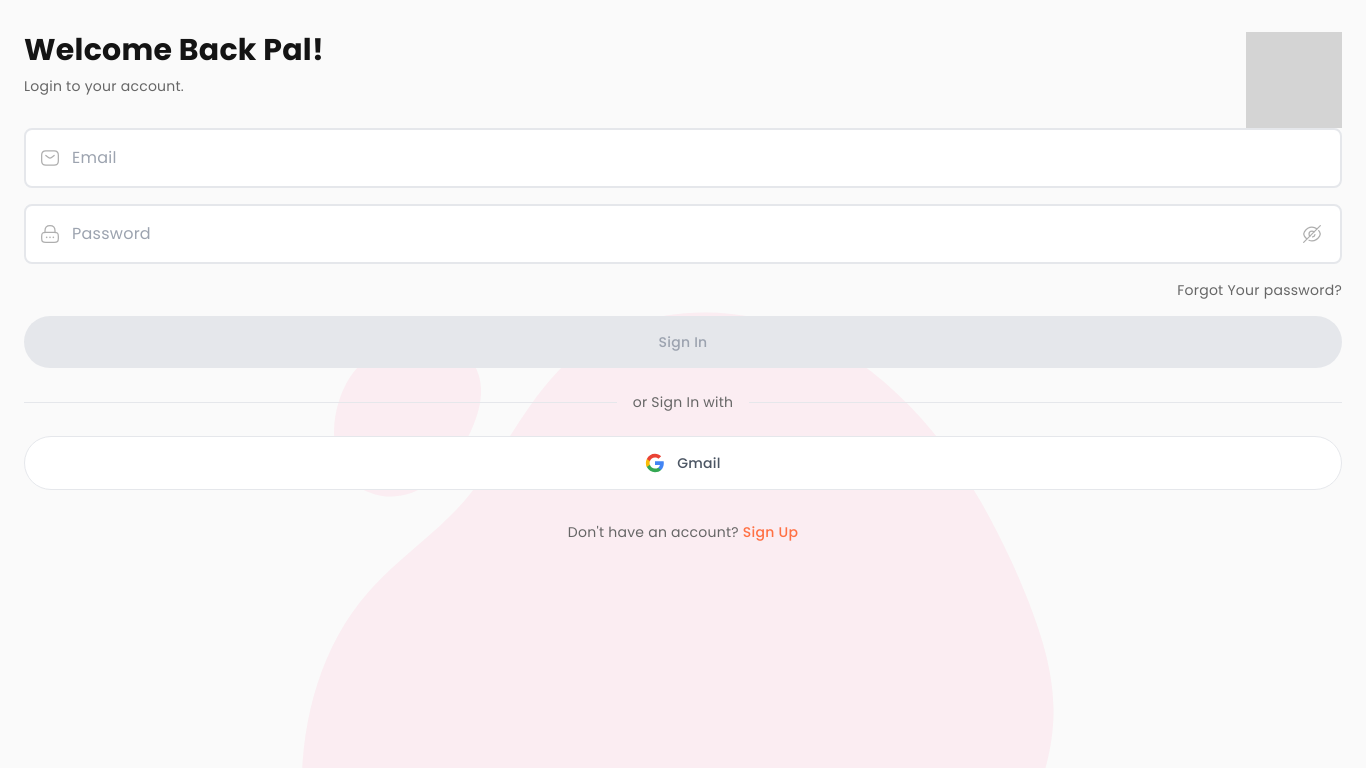
Test: LoginPage › shows inline validation errors
This screenshot has width=1366, height=768.
In the field with placeholder "Email": (683, 158) 24,128 -> 1342,188, type "invalid-email"
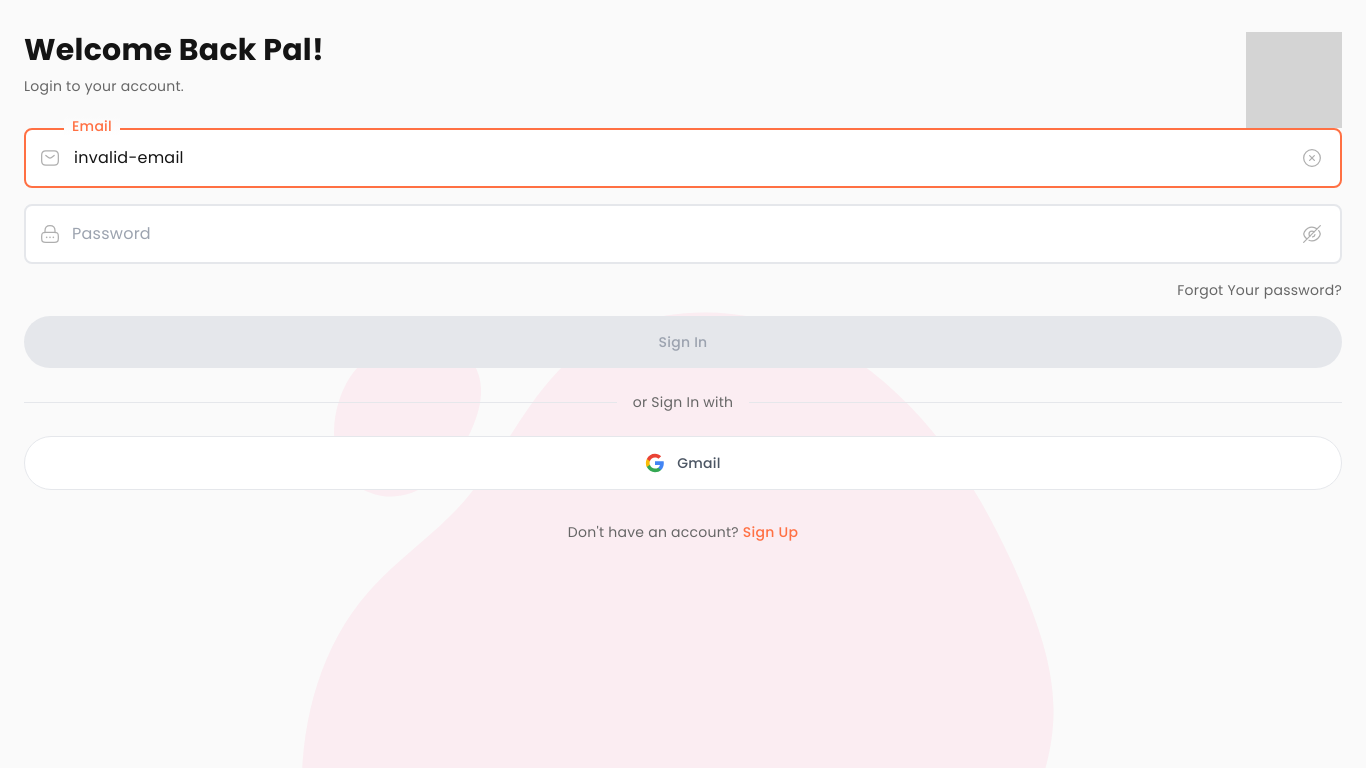
Press Tab
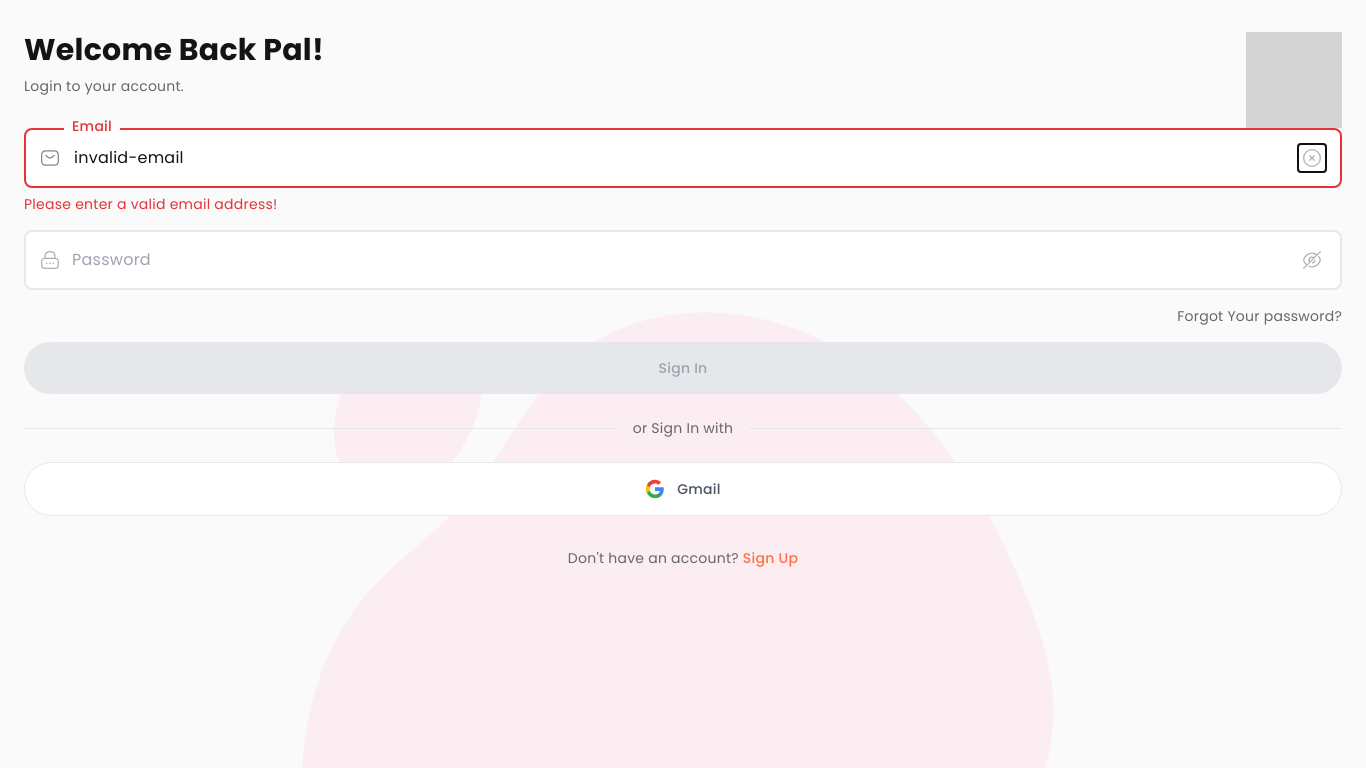
In the password field with placeholder "Password": (683, 260) 24,230 -> 1342,290, type "123"
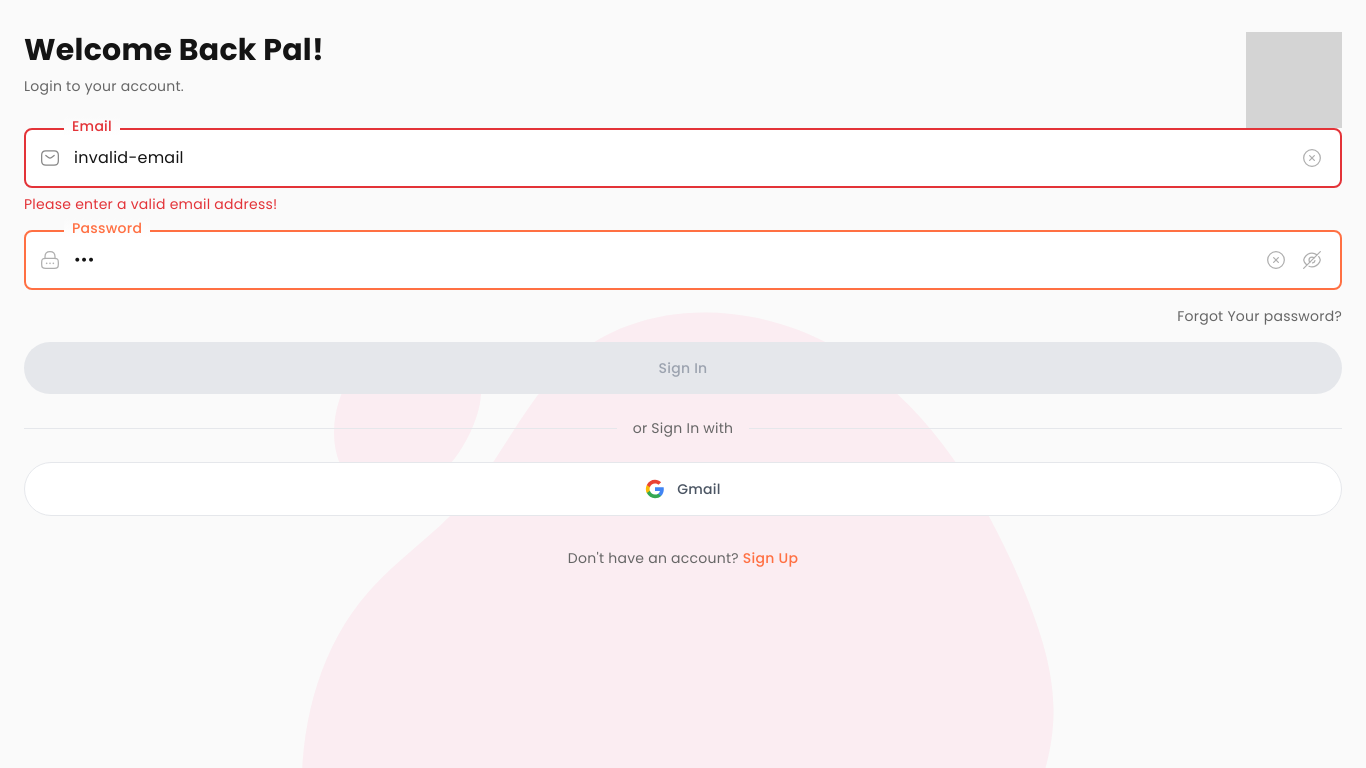
Press Tab
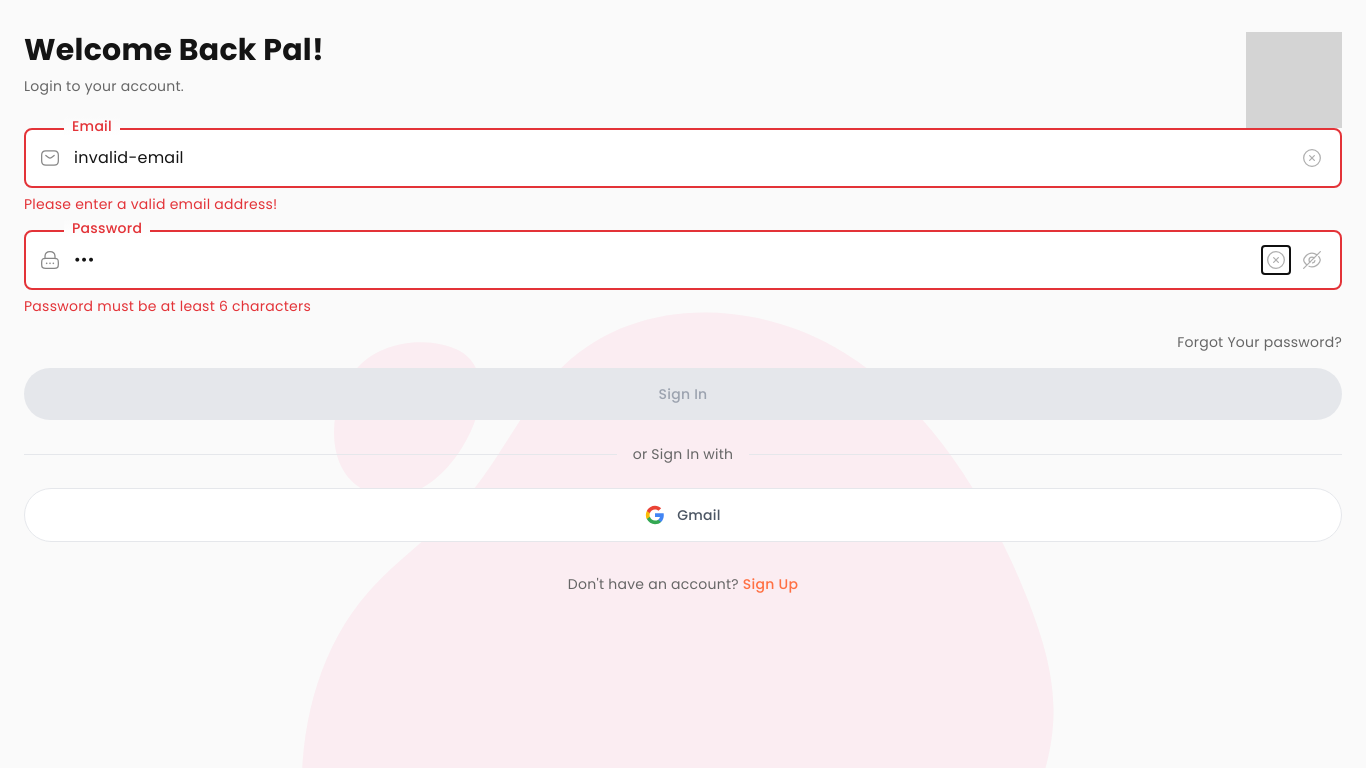
Now the text "Please enter a valid email address!" is shown, box 24,194 -> 277,214
Now the text "Password must be at least 6 characters" is shown, box 24,296 -> 311,316
